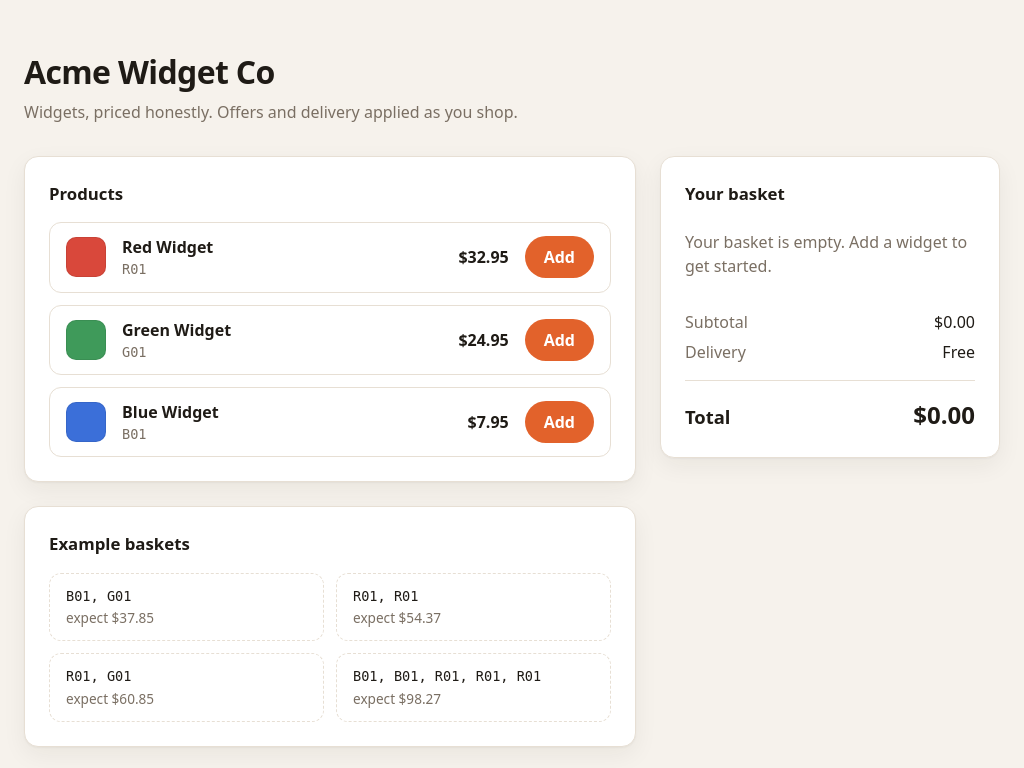
Test: App › applies the red widget offer and delivery when adding two red widgets
Step 1. Click the button with aria-label "Add Red Widget" → (559, 257), box [525, 236, 594, 278]
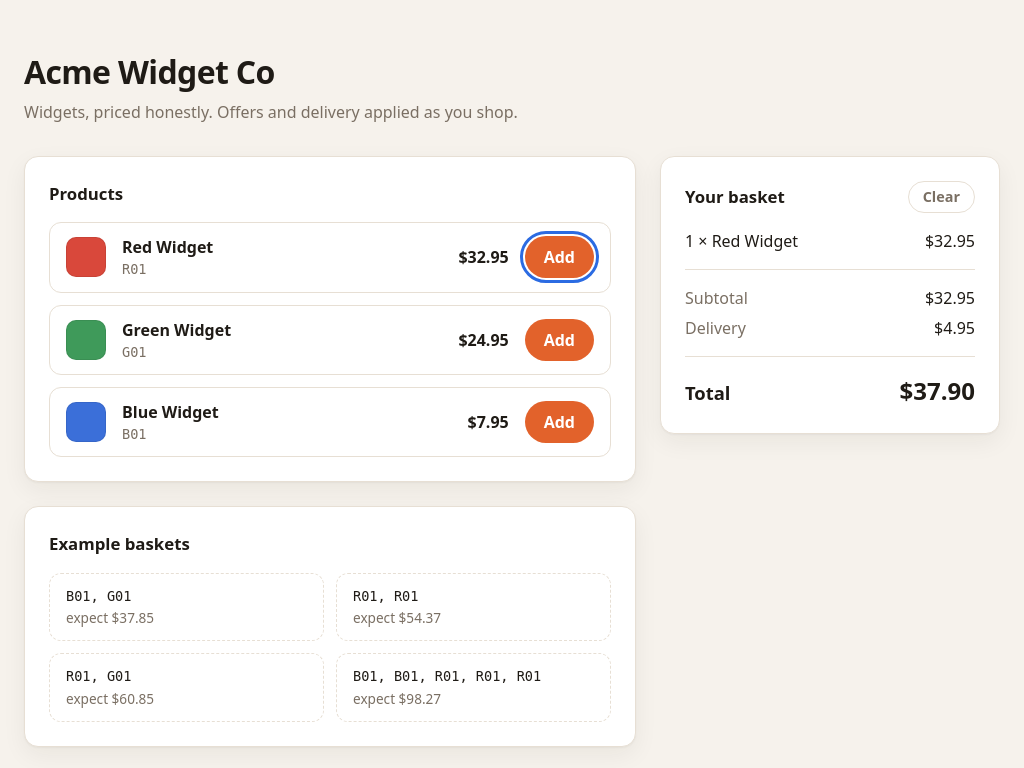
Step 2. Click the button with aria-label "Add Red Widget" → (559, 257), box [525, 236, 594, 278]
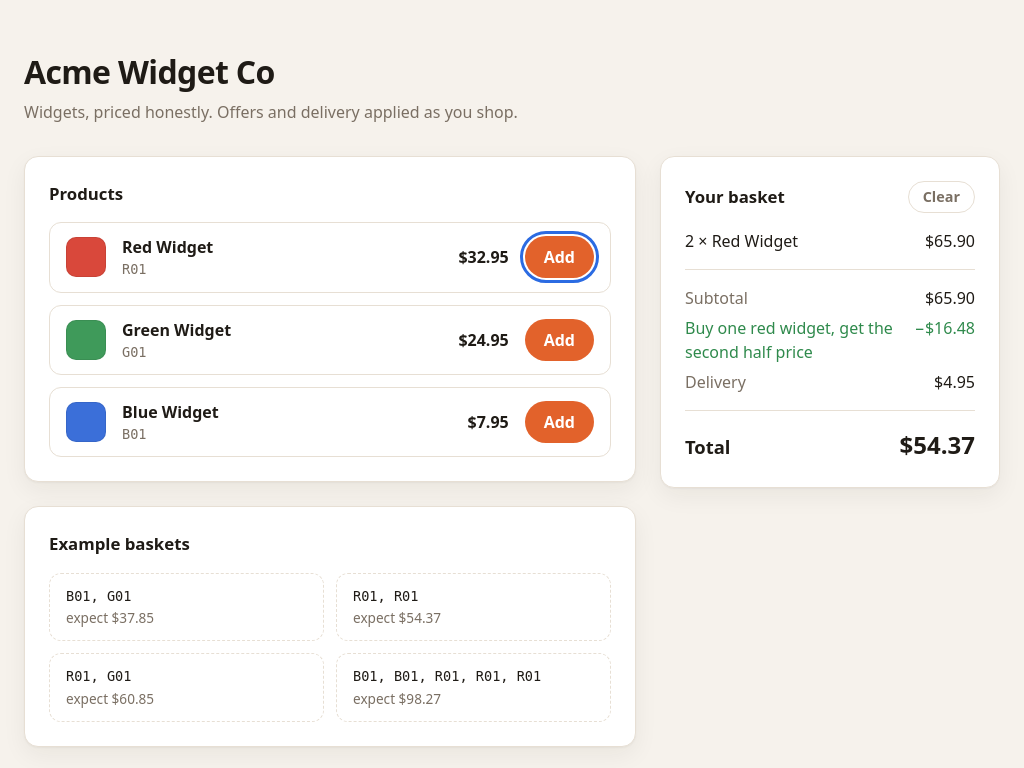
Expected: the text "2 × Red Widget" is shown, [685, 229, 798, 253]
Expected: the text "Buy one red widget, get the second half price" is shown, [685, 316, 903, 364]
